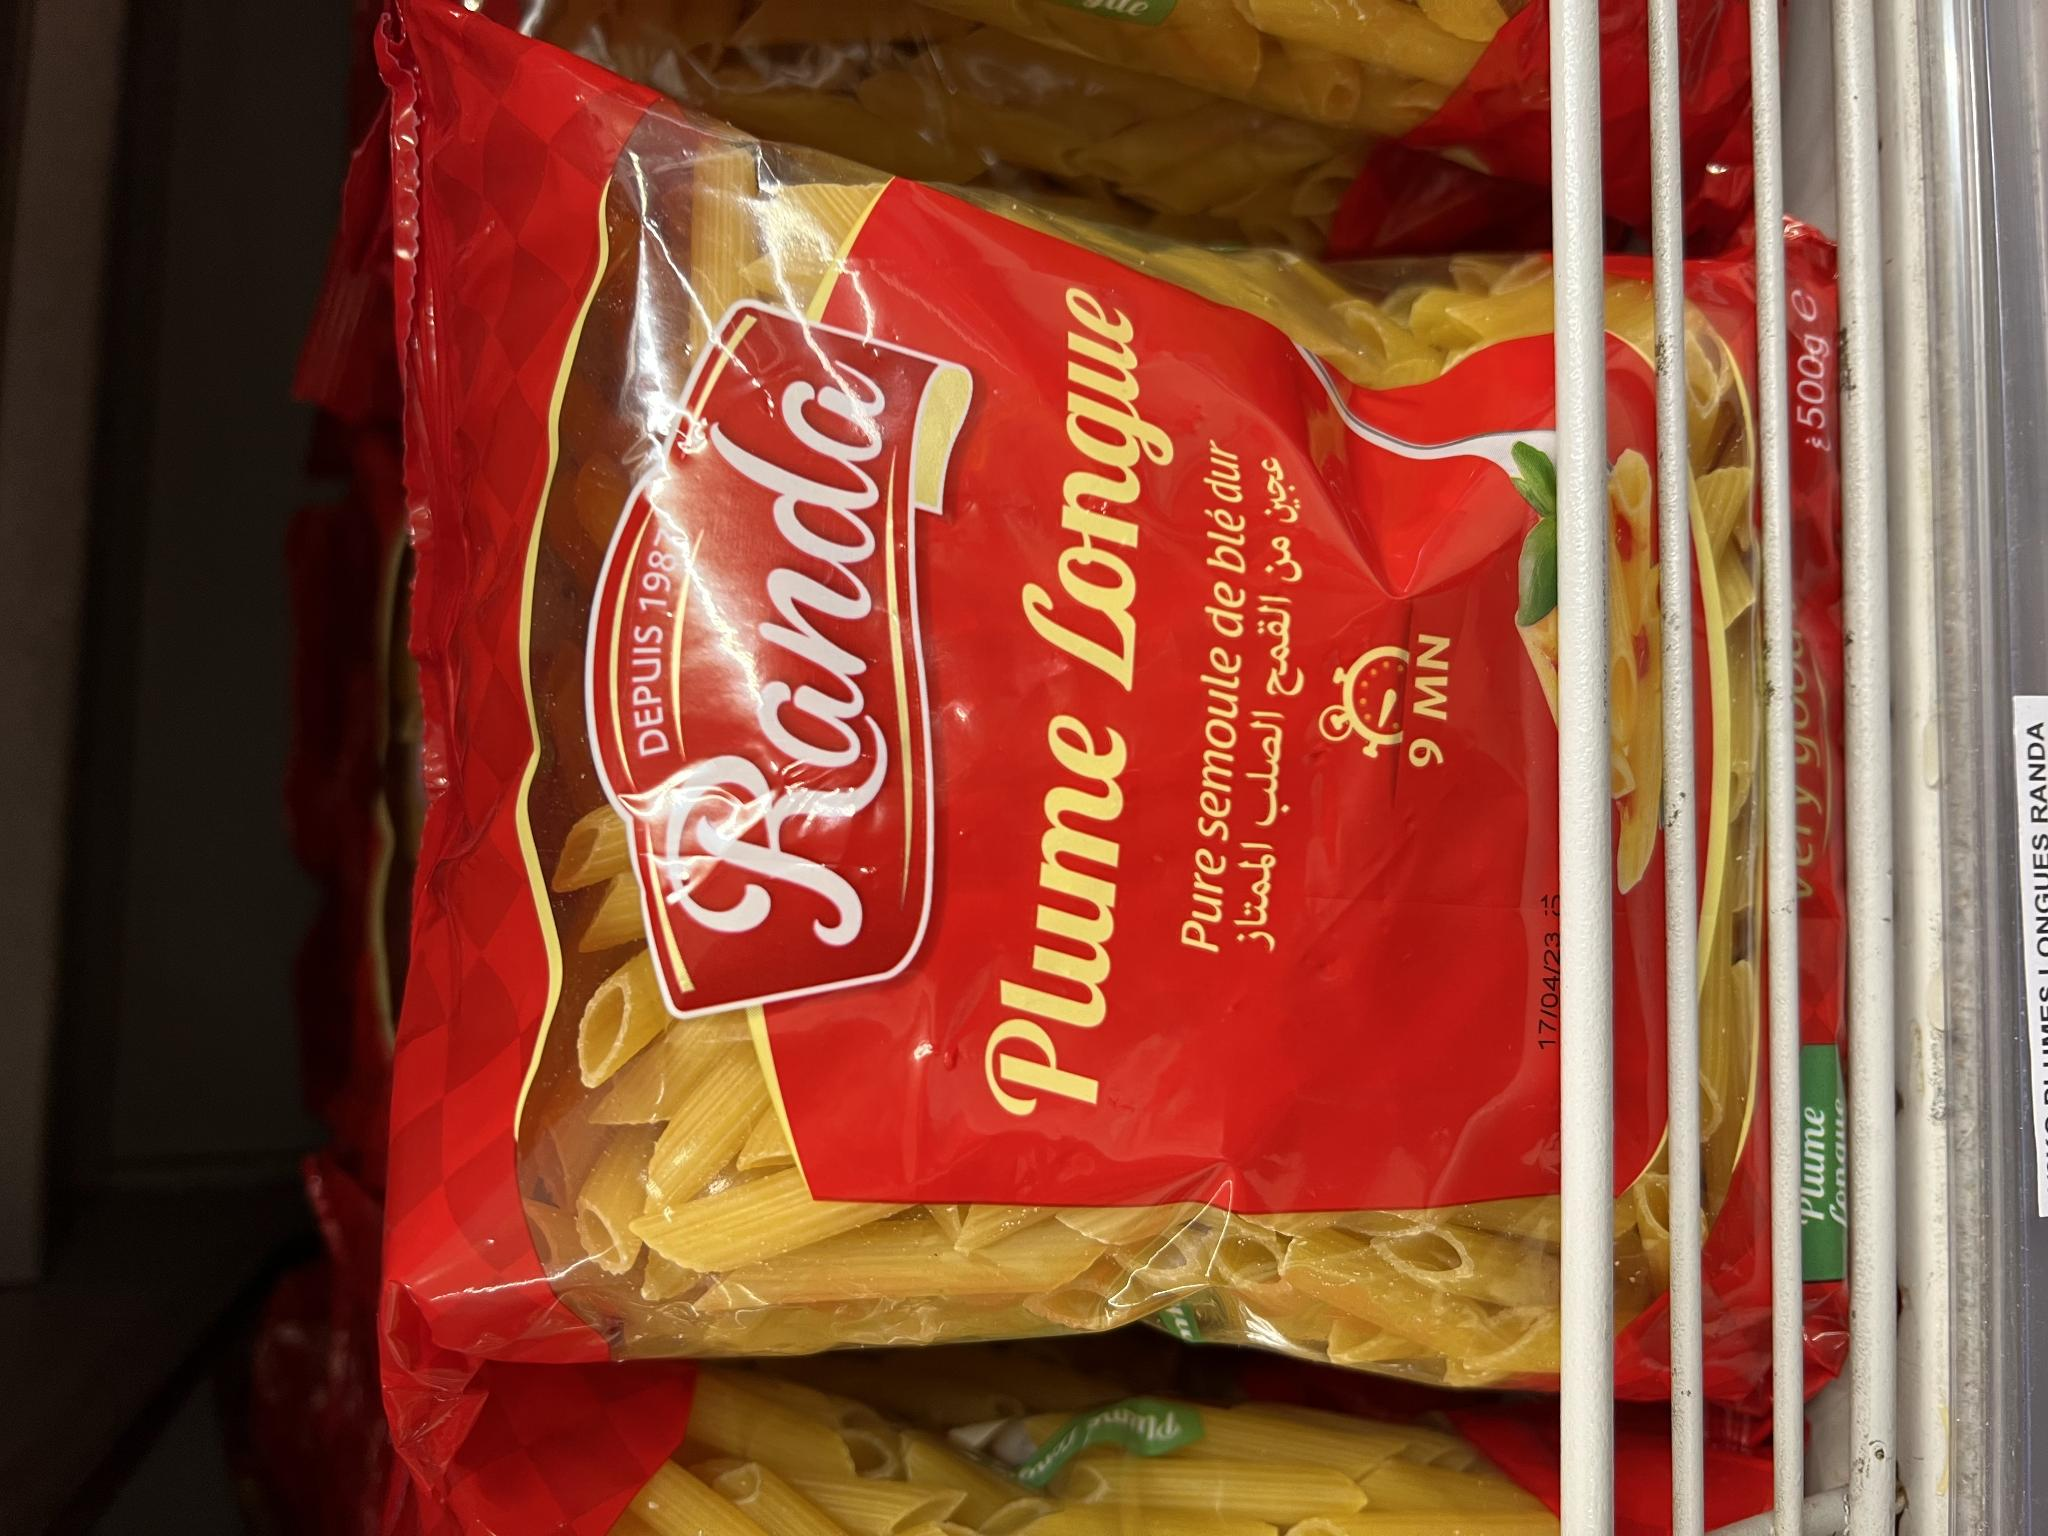plume: (402, 27, 1864, 1371)
